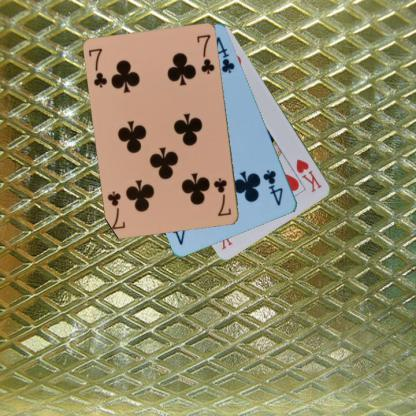4c: (260, 166, 285, 208)
7c: (86, 46, 109, 90), (211, 175, 233, 218)
Kh: (294, 156, 324, 194)
